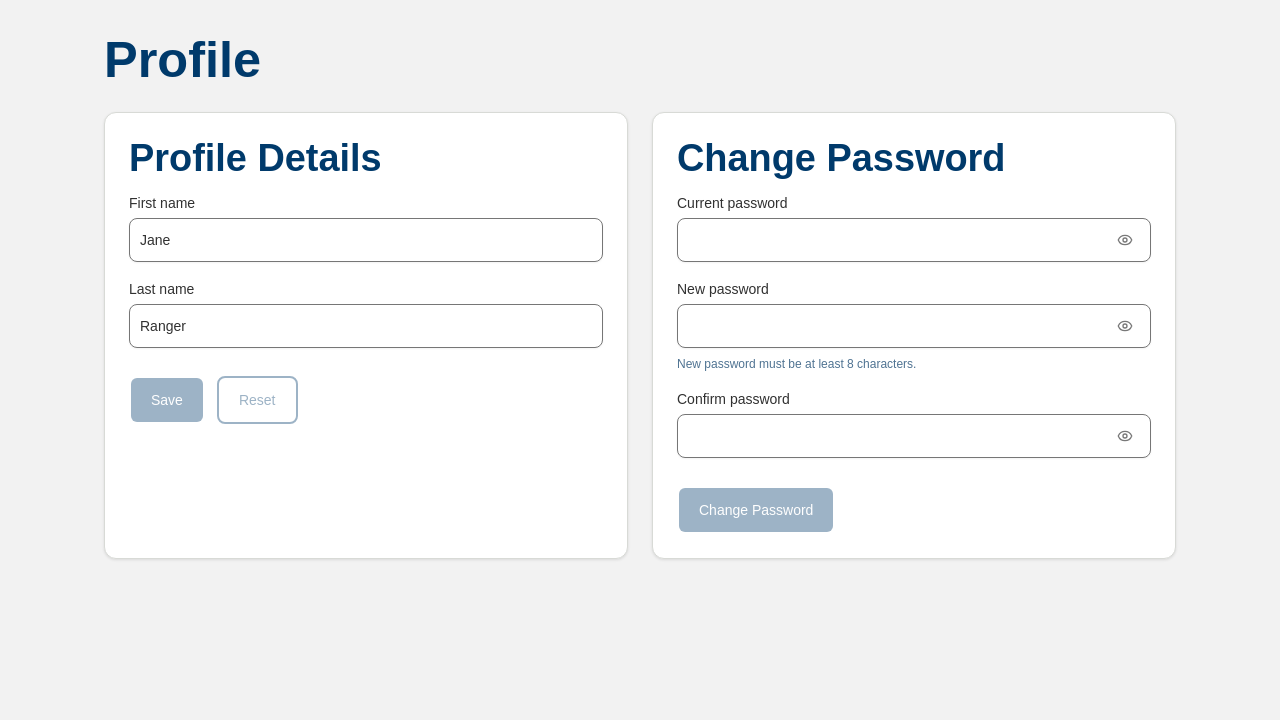
Test: ProfilePage › closes the confirmation dialog via the header close button
Replace the text in the field labelled "First name" with "Janet". click: {"x": 366, "y": 240}
box: [129,218,603,262]
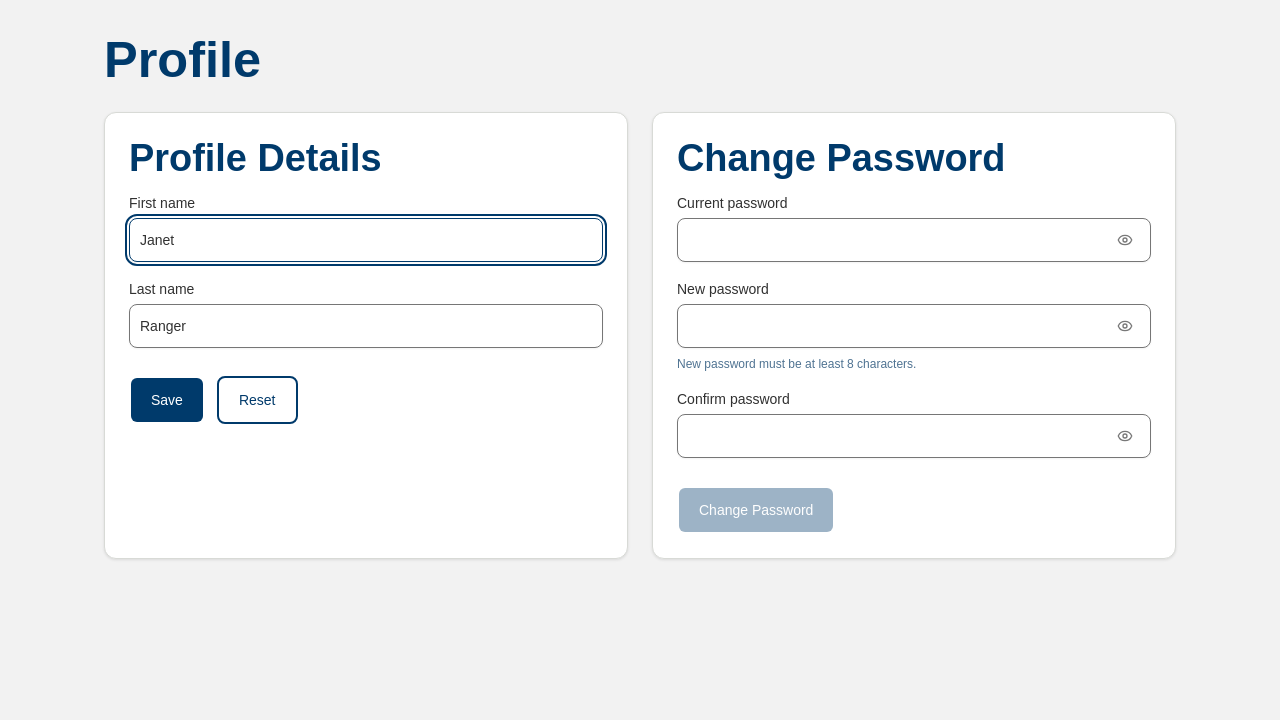
Click the button "Save". click: {"x": 167, "y": 400}
box: [129,376,205,424]
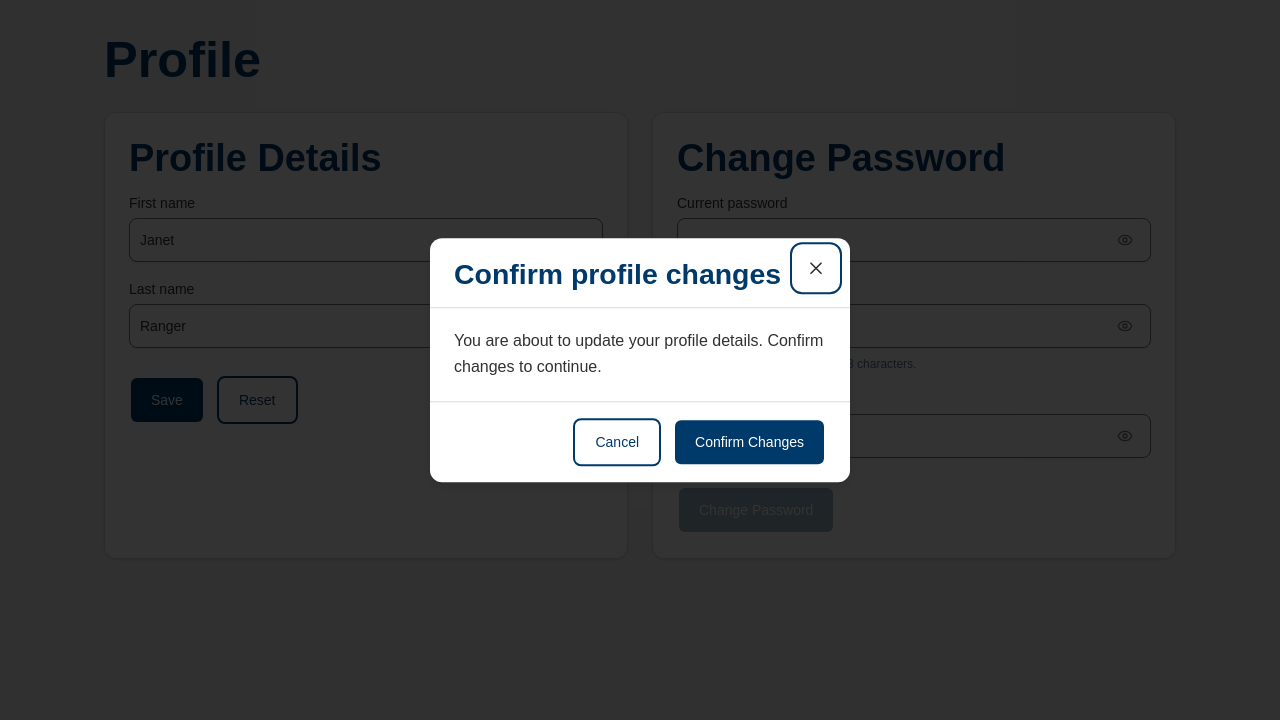
Click the button named "cancel, close dialog". click: {"x": 816, "y": 268}
box: [794,246,838,290]
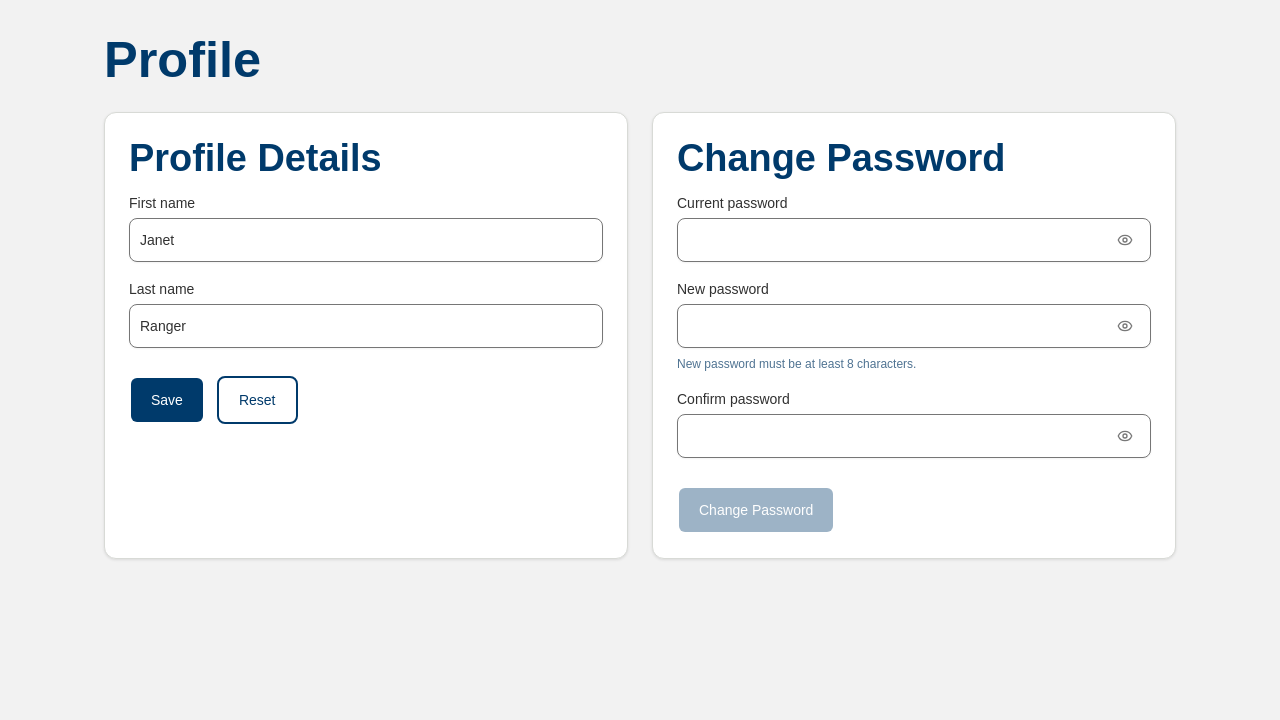
Now the dialog is gone
